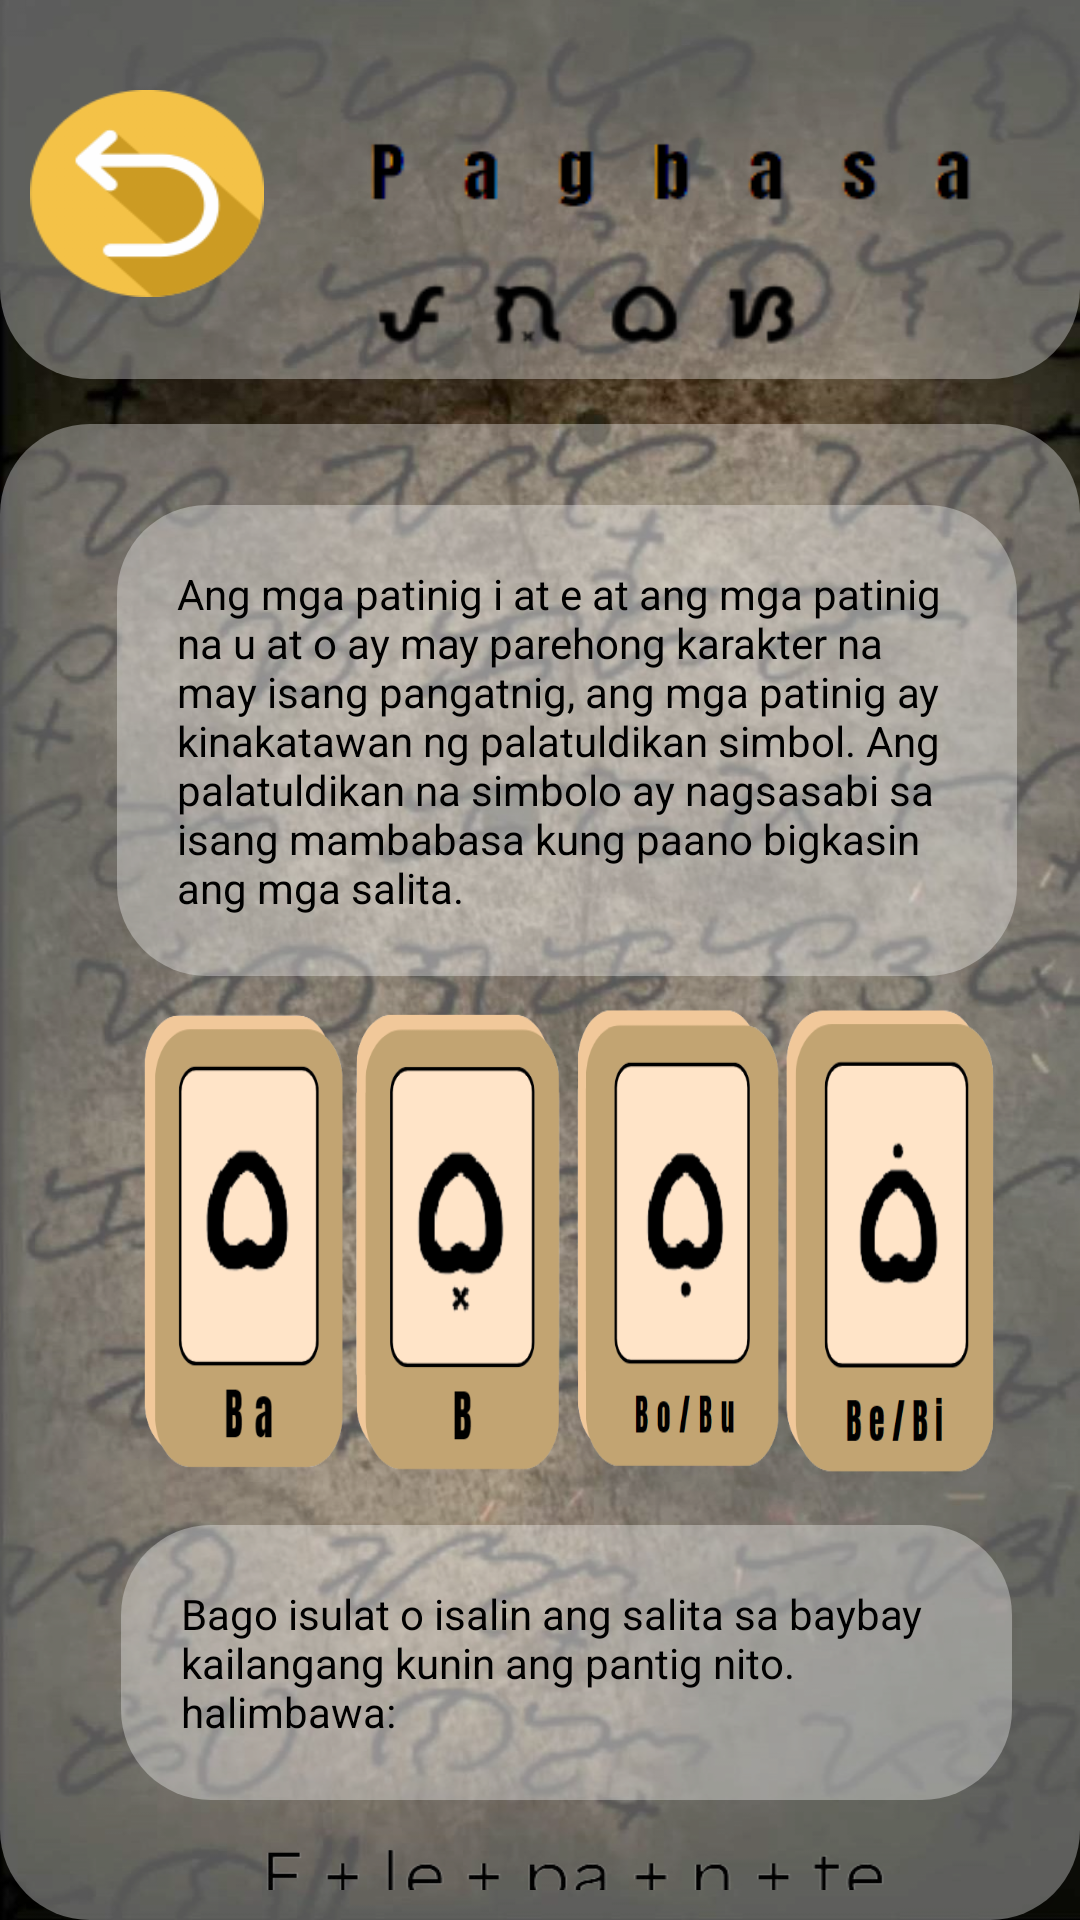

Where icons sit on this 1080px x 1920px app screen, as [x1, y1, x2, y2]:
undo: [30, 90, 264, 297]
